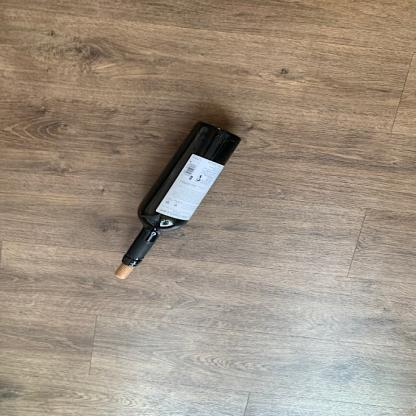trash: (122, 120, 246, 268)
